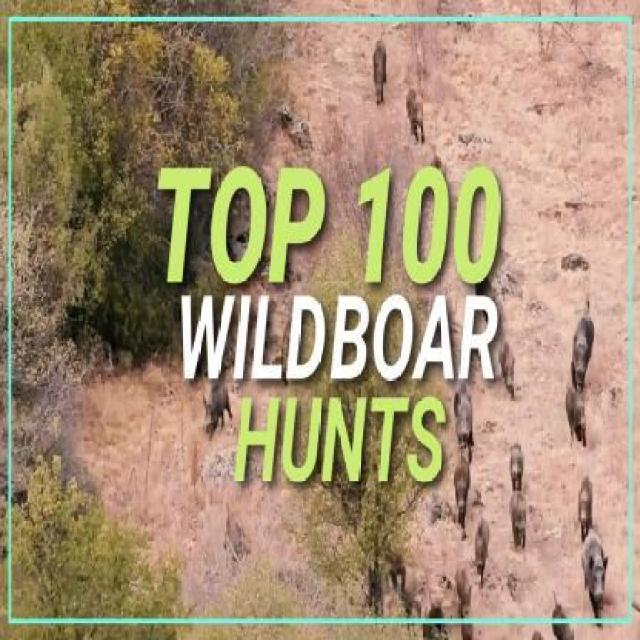Boar: (461, 502, 497, 598), (570, 464, 598, 542), (579, 539, 606, 603), (571, 302, 597, 360), (566, 378, 594, 429), (371, 23, 387, 109), (459, 396, 487, 442), (506, 496, 526, 558), (457, 452, 475, 517), (411, 72, 423, 143), (514, 434, 524, 481)
